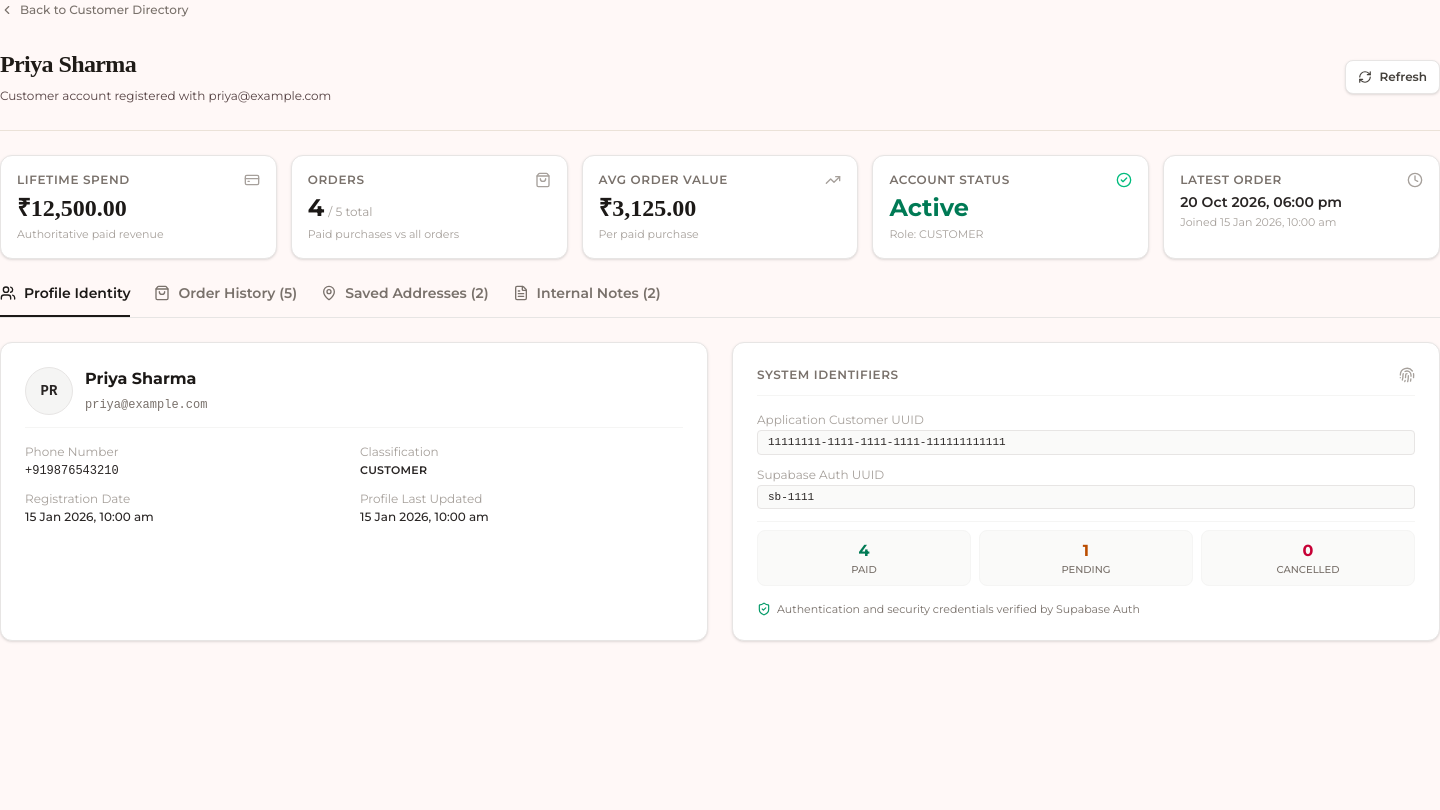
Scenario: AdminCustomerDetailClient › renders internal notes tab with confidential warning banner, author, and timestamp
Check: the 1st heading "Priya Sharma" is shown, box [0,51,136,77]
Click the button "Internal Notes (2)": (587, 300) [513,283,661,317]
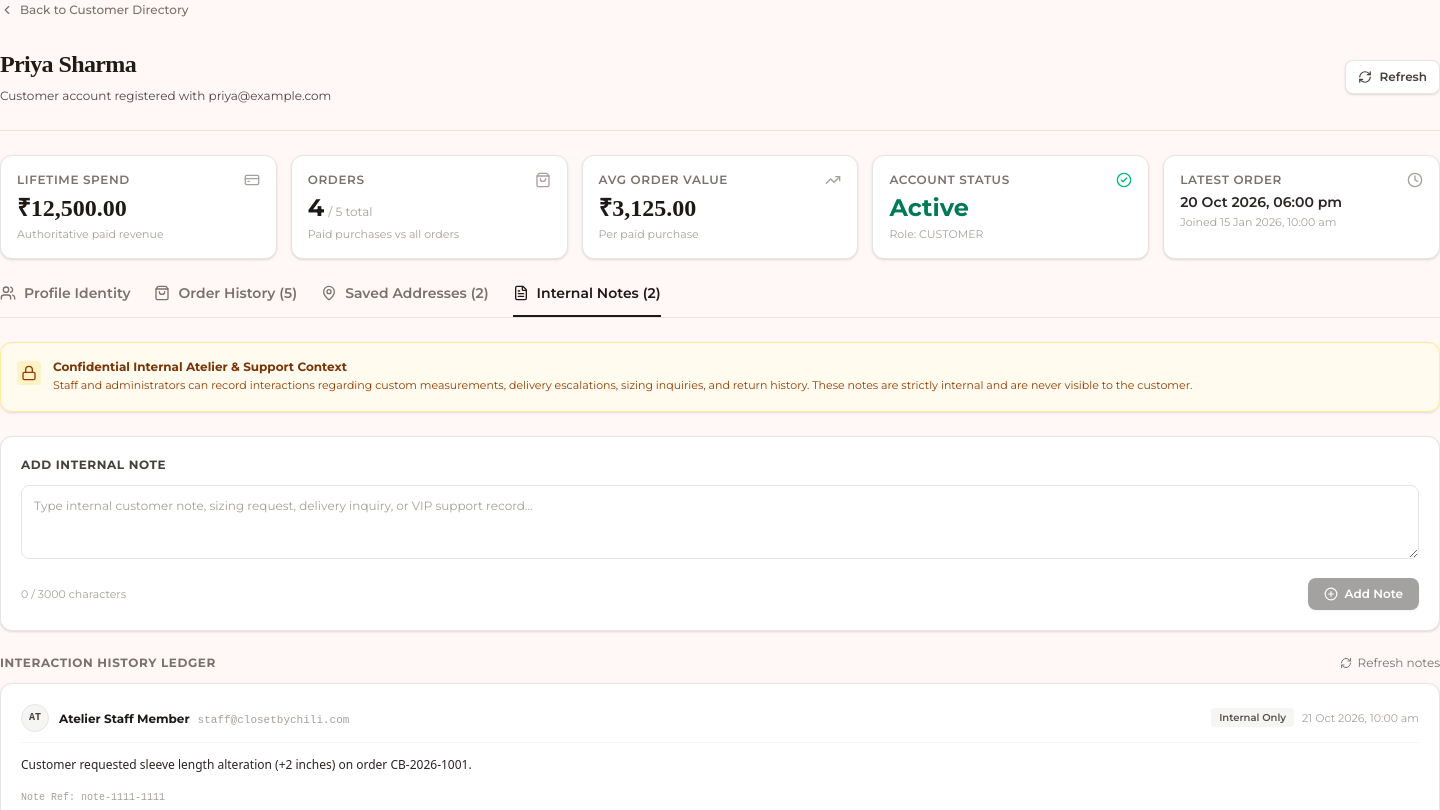
Check: the text "Confidential Internal Atelier & Support Context" is shown, box [53,359,347,374]
Check: the text "Atelier Staff Member" is shown, box [59,711,190,726]
Check: the text "Customer requested sleeve length alteration (+2 inches) on order CB-2026-1001." is shown, box [21,756,472,773]
